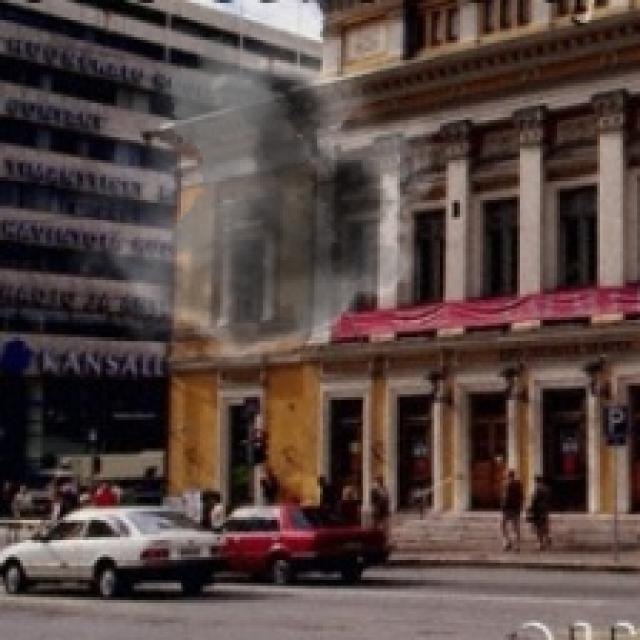smoke: (66, 34, 454, 383)
